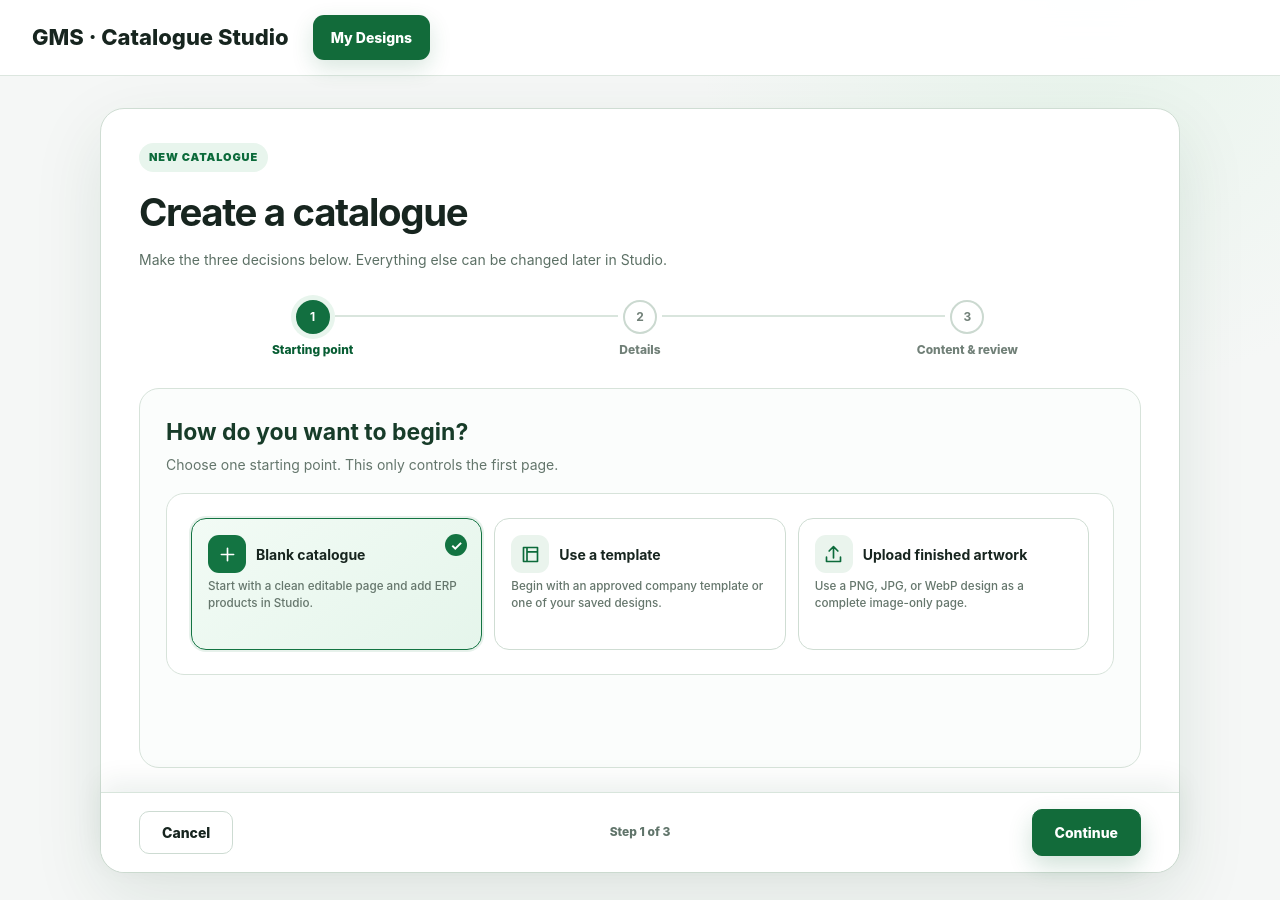
Scenario: Studio creation workflow › explains that ERP stock stays live when prices and product details are fixed
The image size is (1280, 900).
Click the button "Continue" at (1086, 832), box [1032,809,1141,856]
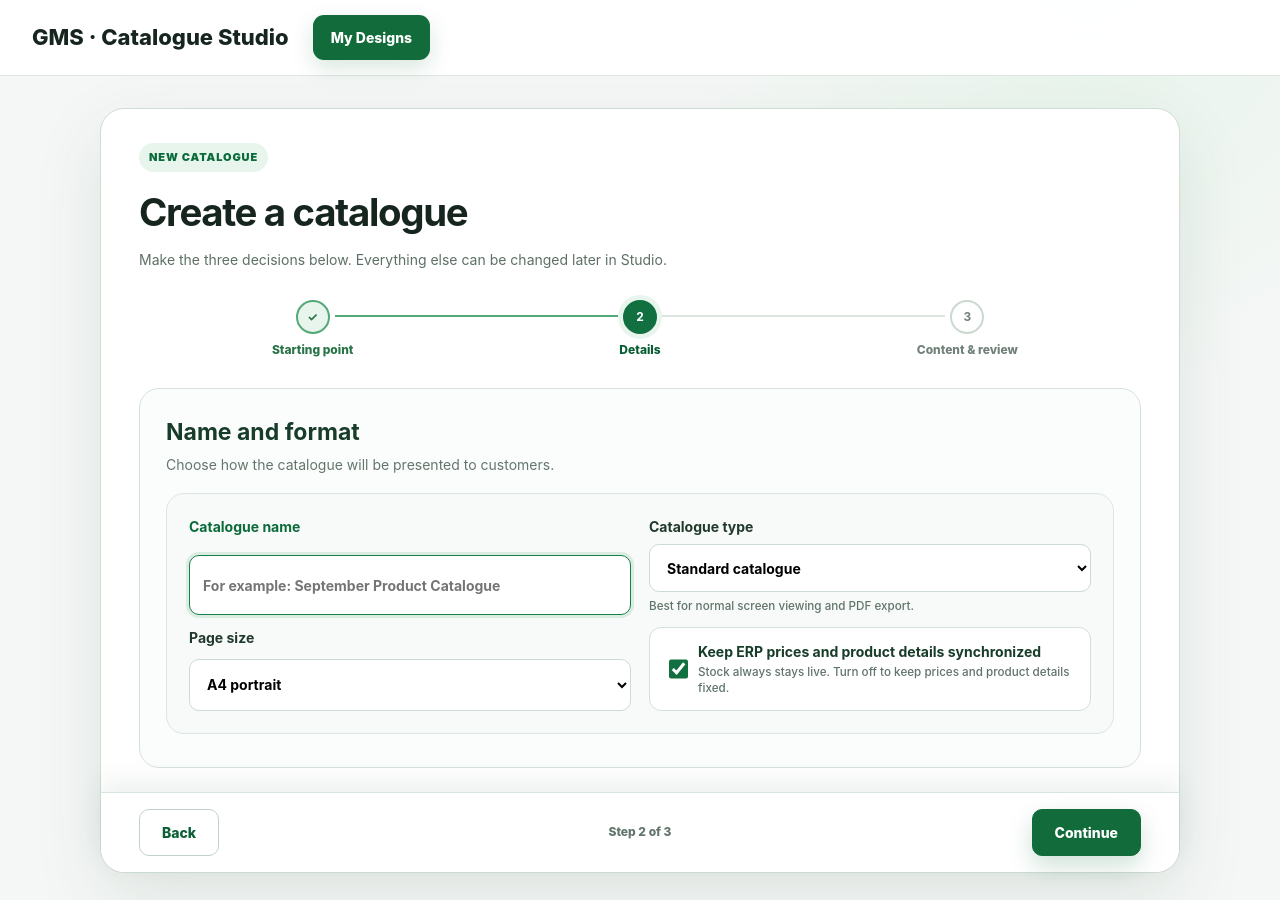
Expected: the text "Keep ERP prices and product details synchronized" is shown, [698,641,1075,662]
Expected: the text "Stock always stays live. Turn off to keep prices and product details fixed." is shown, [698,665,1075,696]
Type "Fixed prices, live stock" into the field labelled "Catalogue name" at (410, 585), box [189,555,631,615]
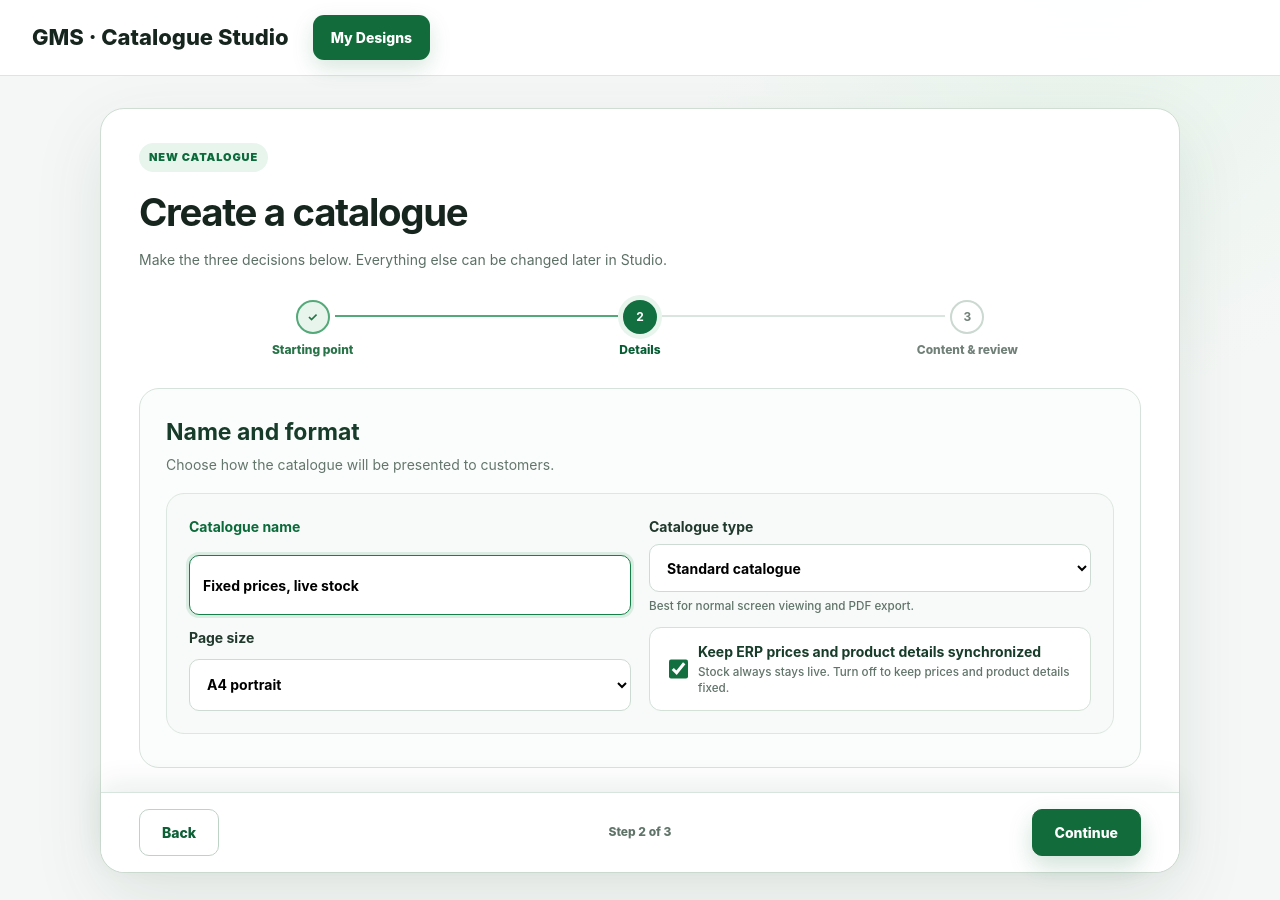
Click the checkbox at (678, 669), box [669,645,688,693]
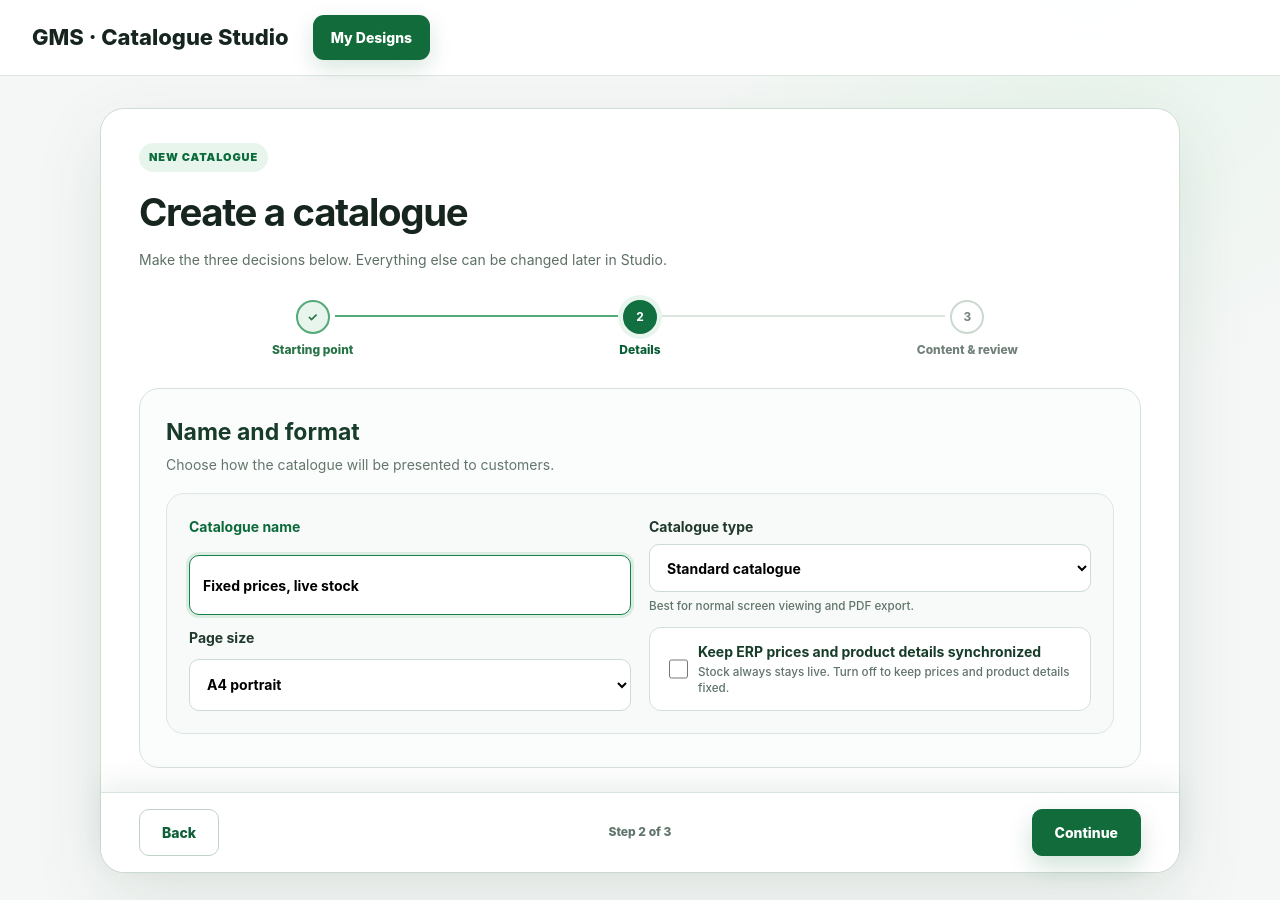
Click the button "Continue" at (1086, 832), box [1032,809,1141,856]
(page scrolled)
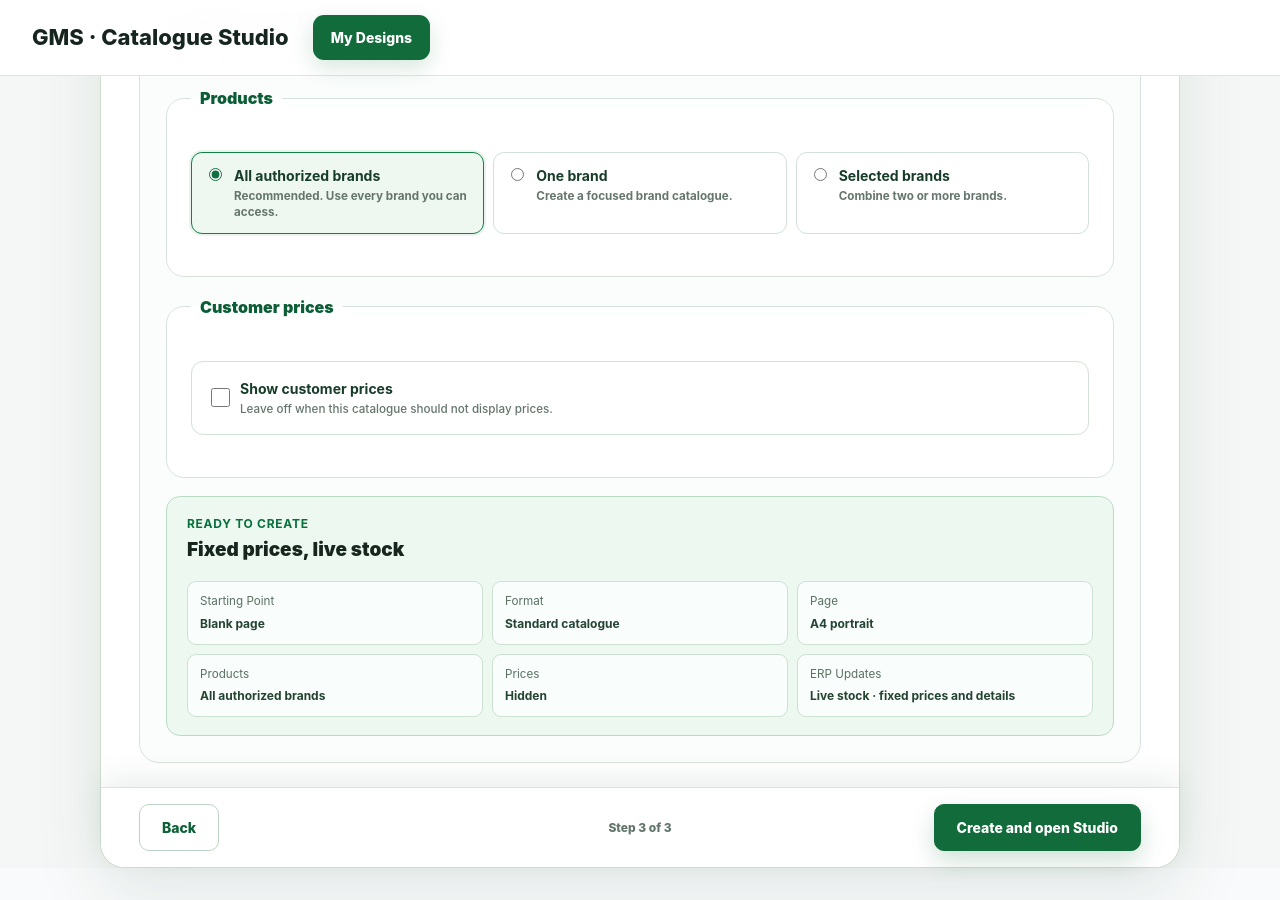
Expected: the text "Live stock · fixed prices and details" is shown, [810,688,1015,703]
